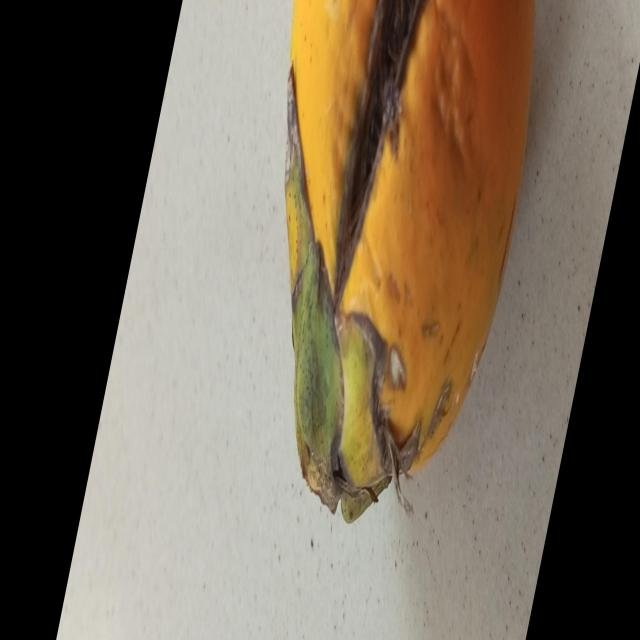damaged: (285, 0, 536, 527)
